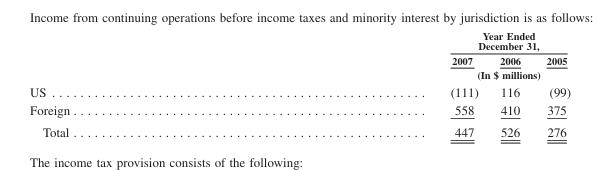table: (28, 29, 570, 138)
table column: (28, 29, 259, 138), (259, 29, 488, 138), (488, 29, 532, 138), (532, 29, 570, 138)
table column header: (28, 29, 570, 82)
table row: (28, 29, 570, 52), (28, 100, 570, 120), (28, 82, 570, 100), (28, 120, 570, 138), (28, 52, 570, 67), (28, 67, 570, 82)
table spanning cell: (259, 29, 570, 52), (259, 67, 570, 82)
